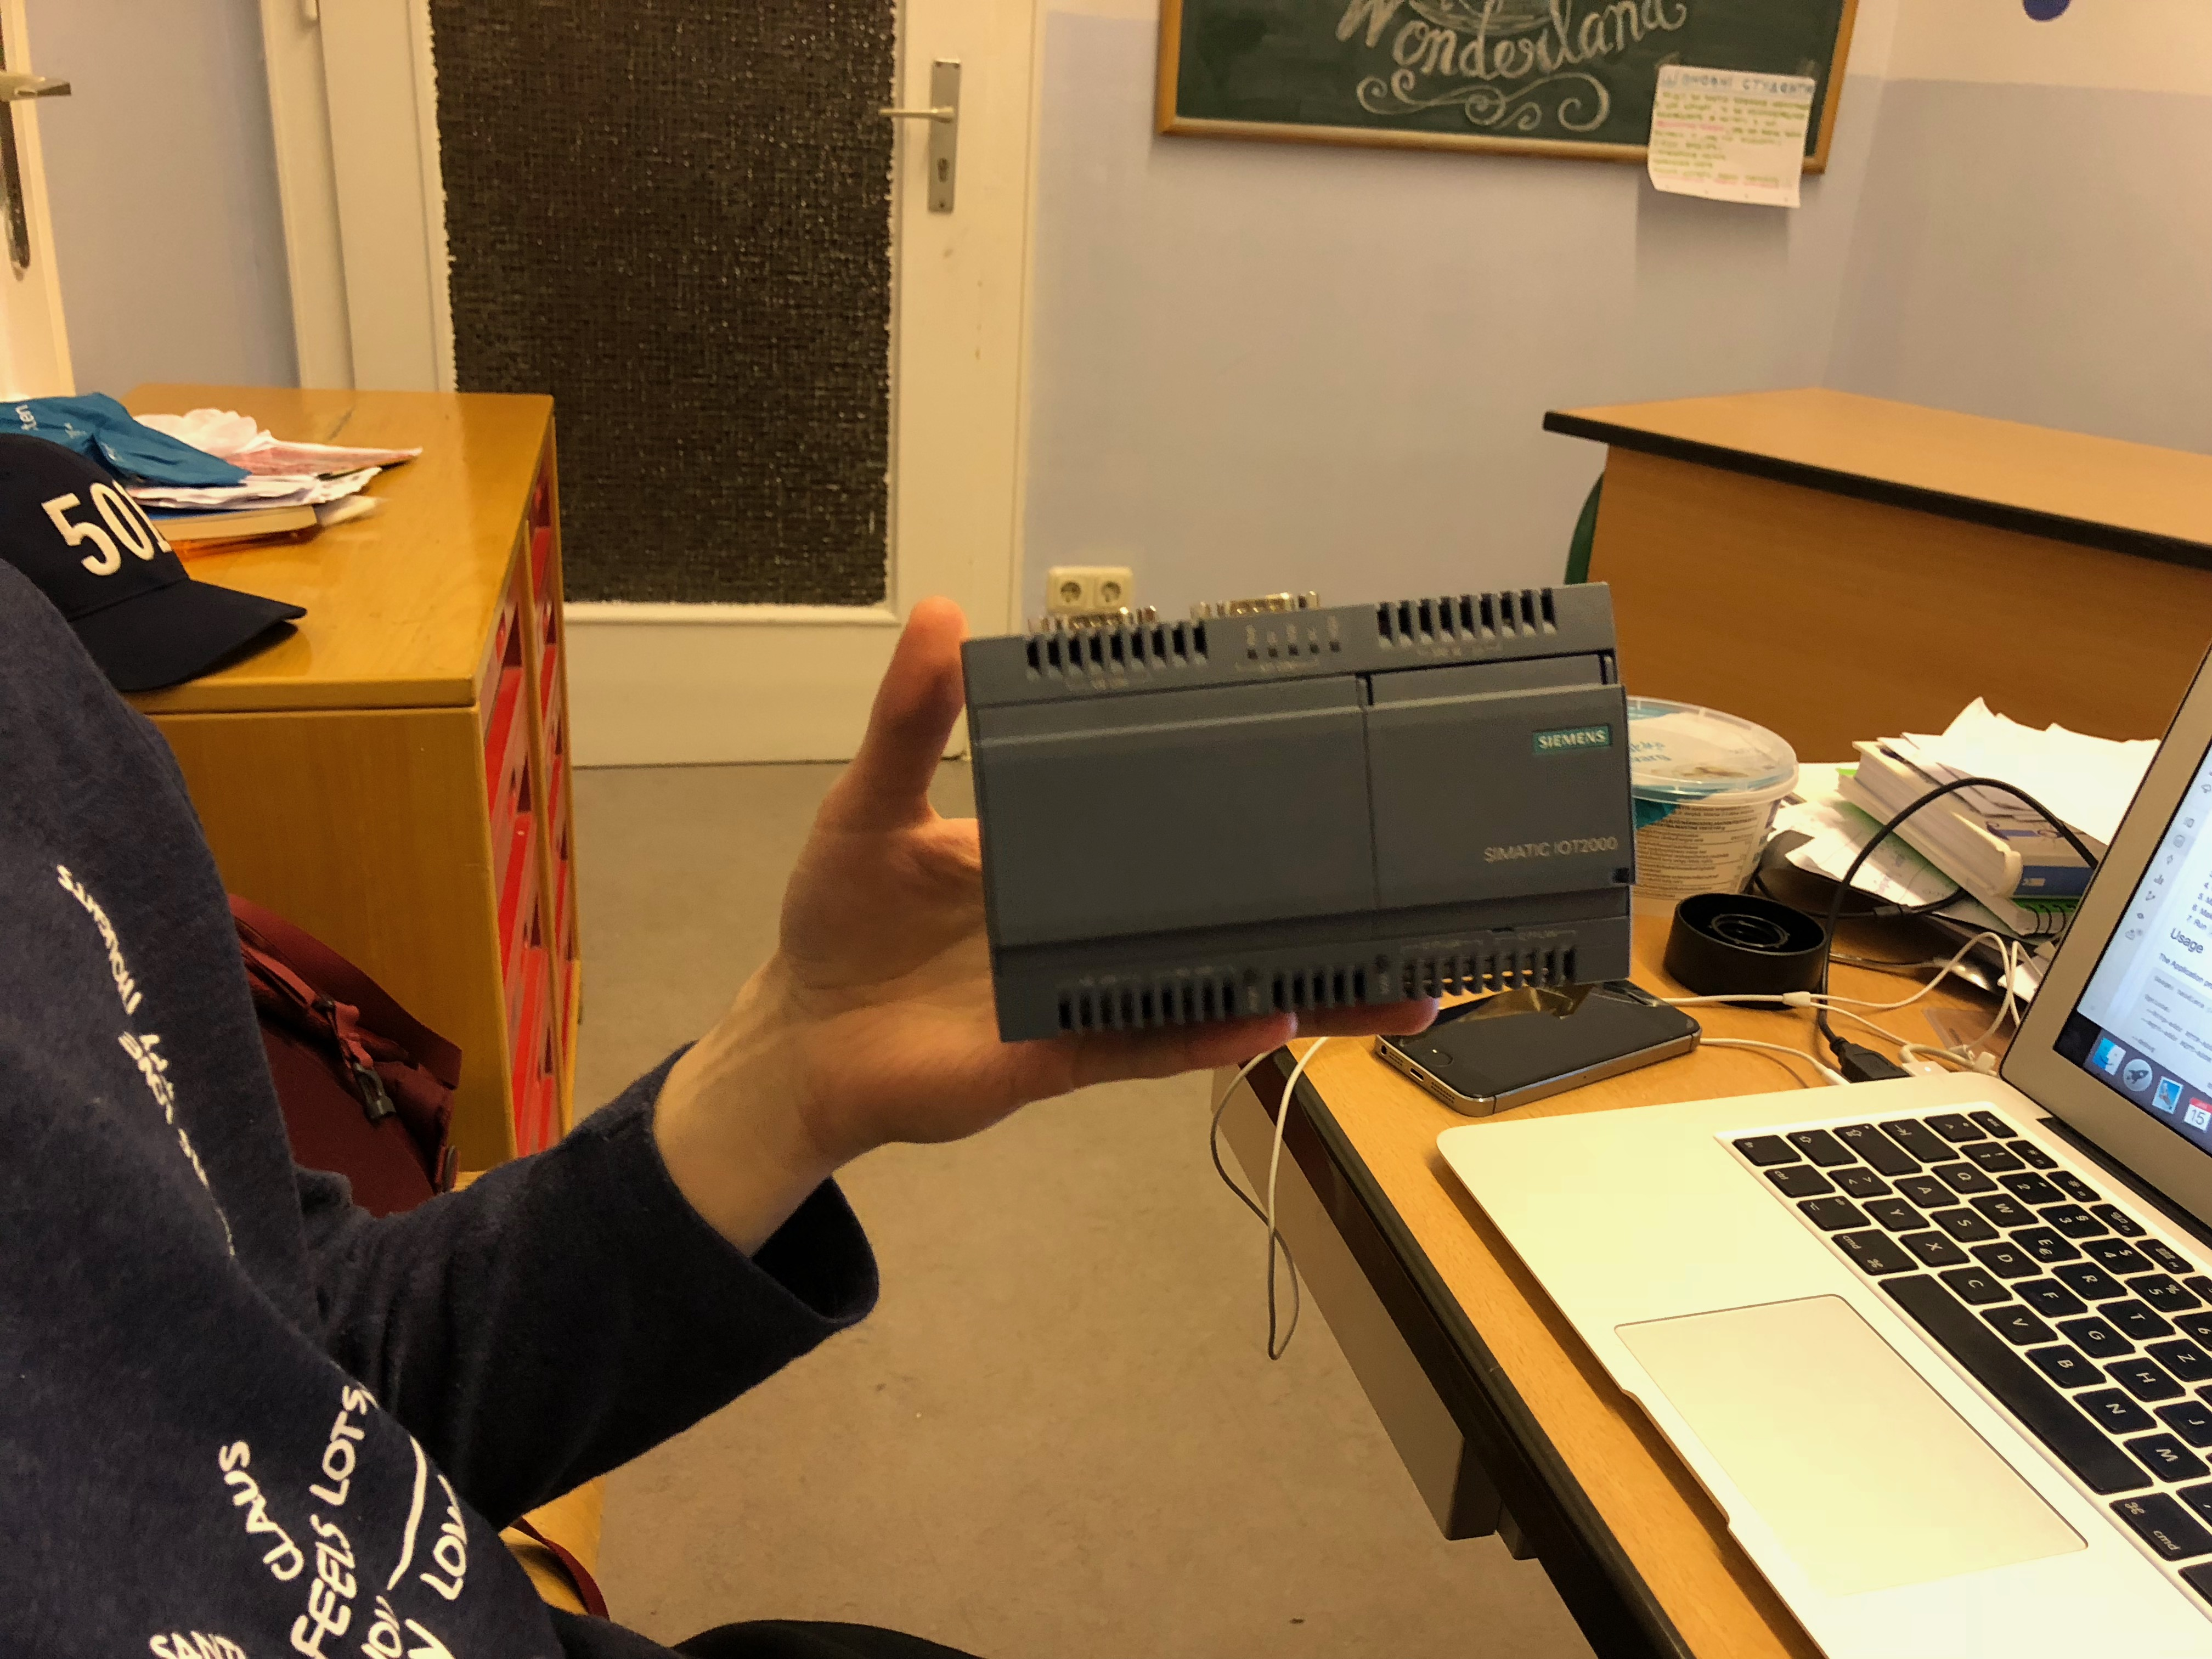device: (960, 580, 1639, 1046)
